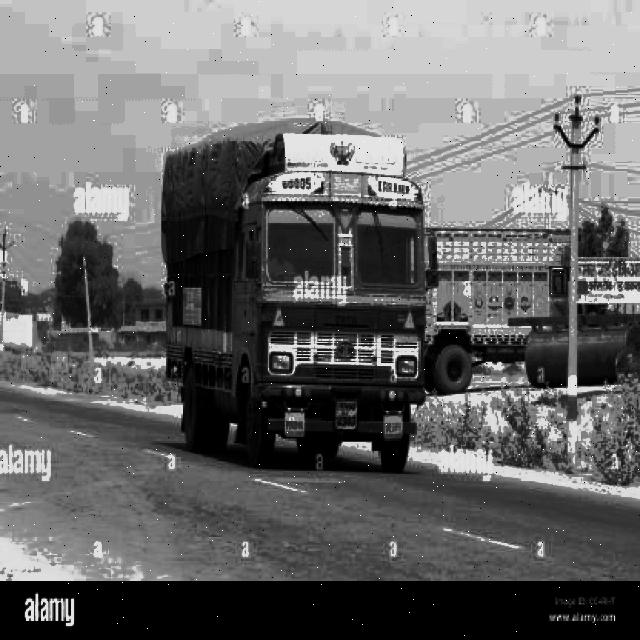HCV: (140, 125, 420, 462), (432, 209, 566, 377)
